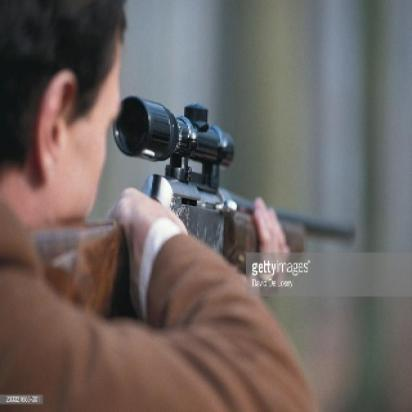Gun: (29, 102, 360, 322)
